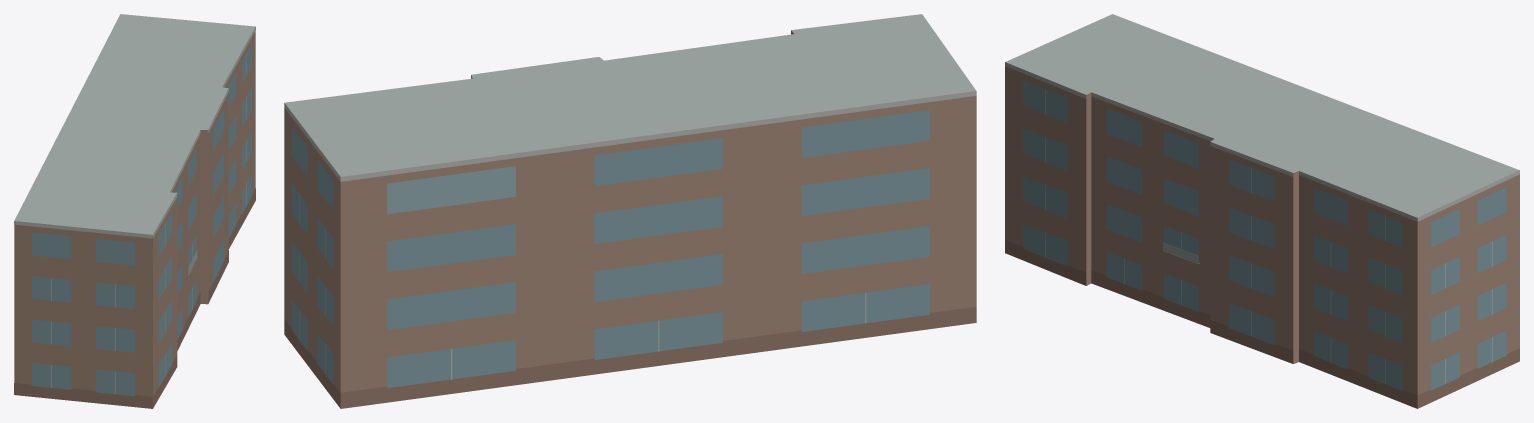
The model's file is survey-upis-32528799.glb.
3 views of the same model, side by side, from view 1: azimuth 30°, elevation 25°; view 2: azimuth 150°, elevation 25°; view 3: azimuth 270°, elevation 25° (orthographic). The views are drawn at different scales.
Parts seen in each view (by area): view 1: survey-upis-32528799.tmp; view 2: survey-upis-32528799.tmp; view 3: survey-upis-32528799.tmp.
Boxes of the visible parts, box(x1,y1,x2,y2) form: survey-upis-32528799.tmp: box(14, 14, 255, 408); survey-upis-32528799.tmp: box(284, 14, 976, 408); survey-upis-32528799.tmp: box(1005, 14, 1519, 408).
Size of the model in its own units: 26.55 by 11.6 by 28.33.
